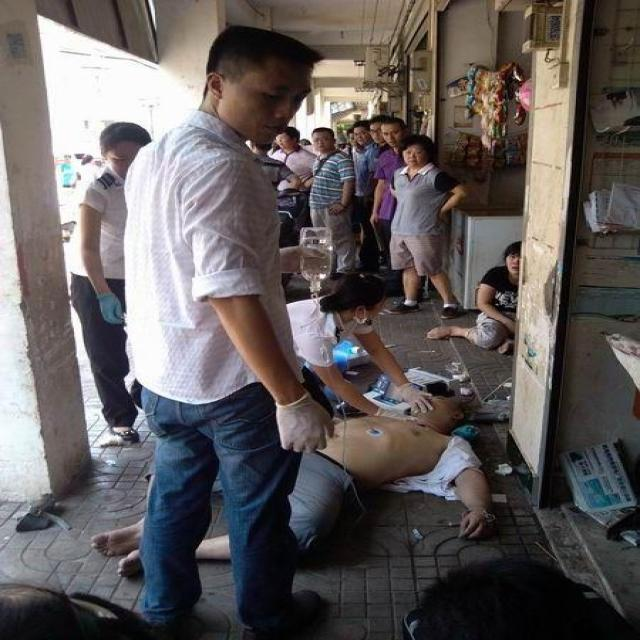10-: (0, 17, 639, 639)
down: (84, 385, 503, 585)
